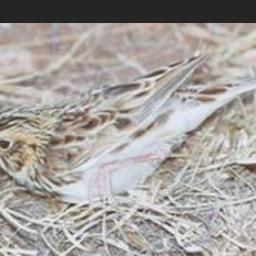Sparrow: (0, 51, 256, 207)
